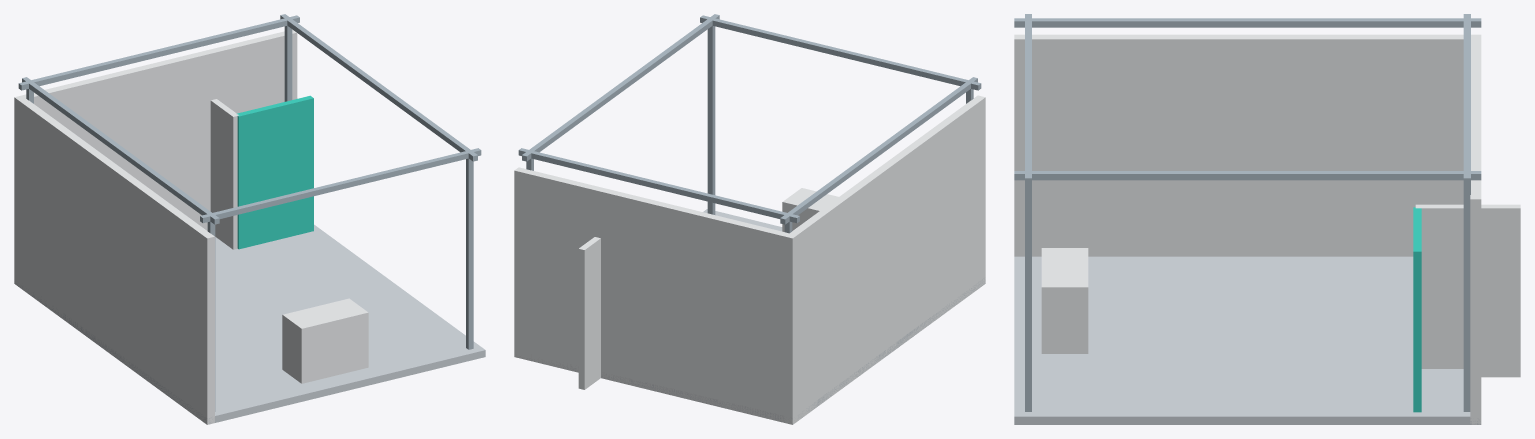
3 renders of one model, left to right at view 1: azimuth 30°, elevation 25°; view 2: azimuth 150°, elevation 25°; view 3: azimuth 270°, elevation 25°, orthographic. The views are drawn at different scales.
Visible parts, largest first — view 1: Exhibition Booth Concept; view 2: Exhibition Booth Concept; view 3: Exhibition Booth Concept.
Boxes of the visible parts, left/top/right/bottom form: Exhibition Booth Concept: left=14, top=14, right=485, bottom=424; Exhibition Booth Concept: left=514, top=14, right=985, bottom=424; Exhibition Booth Concept: left=1014, top=14, right=1520, bottom=424.
Size of the model in its own units: 5 by 3.49 by 6.51.
